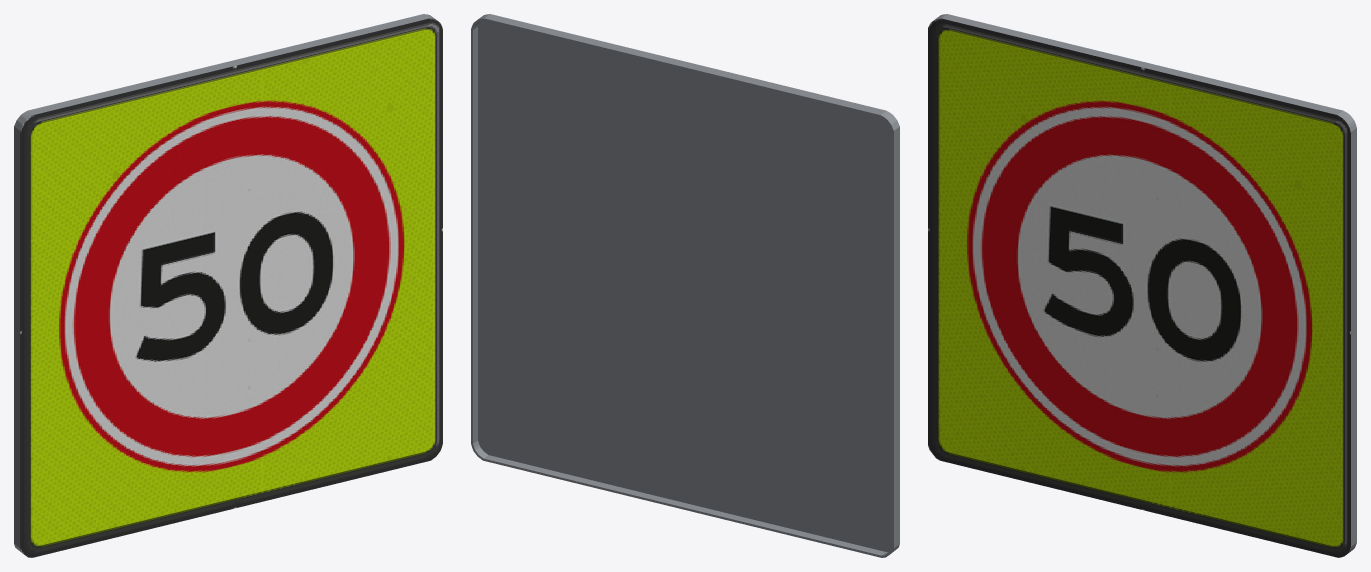
3 renders of one model, left to right at view 1: azimuth 30°, elevation 25°; view 2: azimuth 150°, elevation 25°; view 3: azimuth 330°, elevation 25°, orthographic.
Parts seen in each view (by area): view 1: cat_8ee83e3377756366; view 2: cat_8ee83e3377756366; view 3: cat_8ee83e3377756366.
Part boxes in pixels (<box>): cat_8ee83e3377756366: <box>14,14,442,557</box>; cat_8ee83e3377756366: <box>471,14,899,557</box>; cat_8ee83e3377756366: <box>928,14,1356,557</box>.
Bounding box in the file's own units: 0.6 × 0.015 × 0.6.
2 materials, 1 textured.
